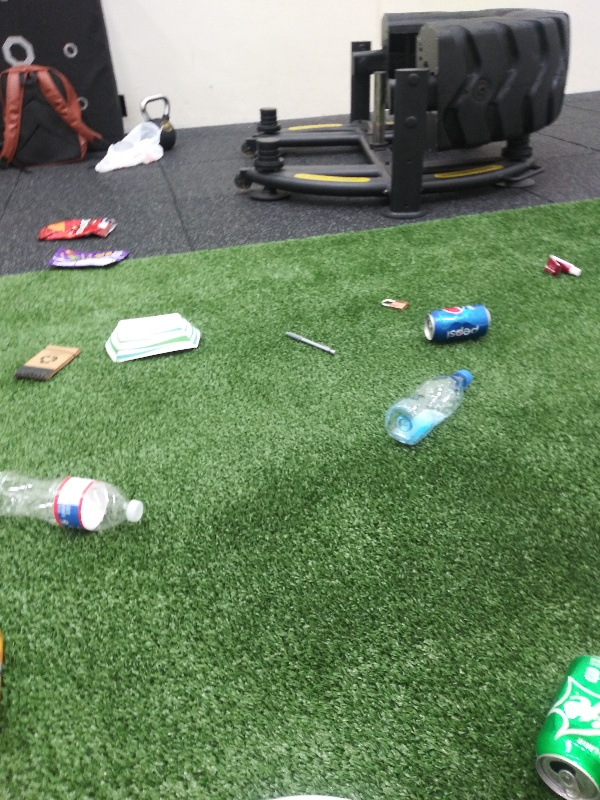bag: (48, 239, 130, 273), (36, 211, 119, 241)
bottle: (1, 461, 148, 534), (380, 367, 477, 449)
can: (531, 652, 598, 800), (421, 303, 496, 344)
plate: (100, 311, 208, 365)
